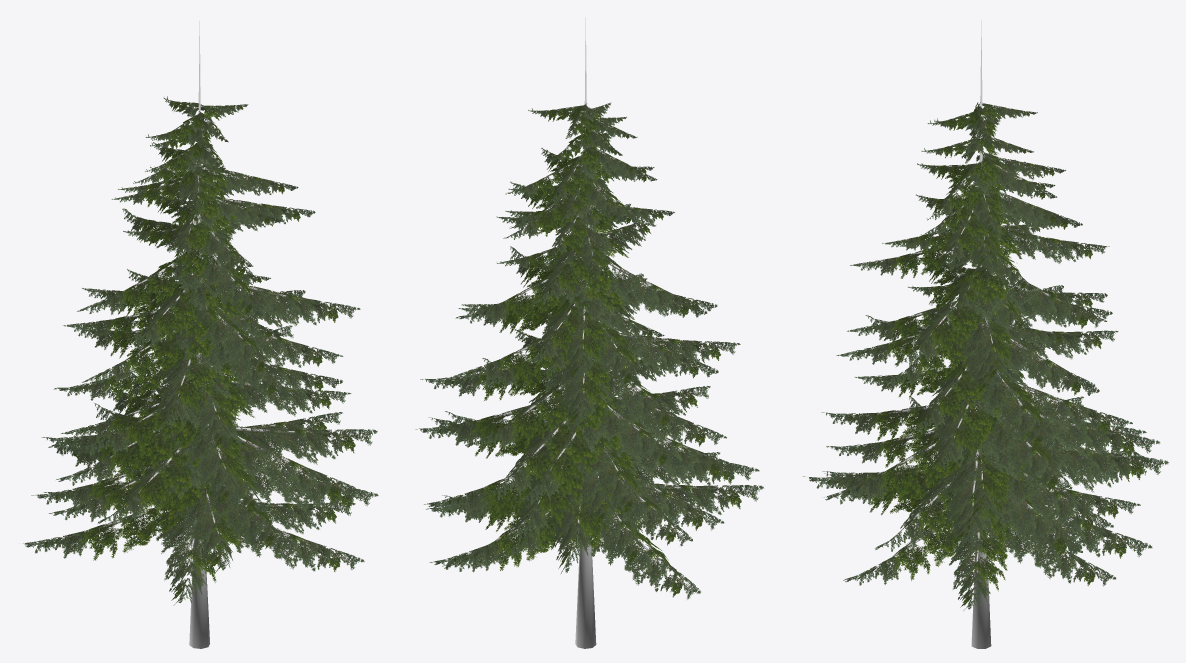
Rendered from Tree2.009.fbx.
3 views of the same model, side by side, from view 1: azimuth 30°, elevation 25°; view 2: azimuth 150°, elevation 25°; view 3: azimuth 270°, elevation 25° (orthographic).
Visible parts, largest first — view 1: Tree2.009; view 2: Tree2.009; view 3: Tree2.009.
Part boxes in pixels (x1=…): Tree2.009: x1=23, y1=21, x2=378, y2=648; Tree2.009: x1=415, y1=17, x2=763, y2=648; Tree2.009: x1=803, y1=20, x2=1168, y2=648.
Bounding box in the file's own units: 1.37 × 2.54 × 1.37.
